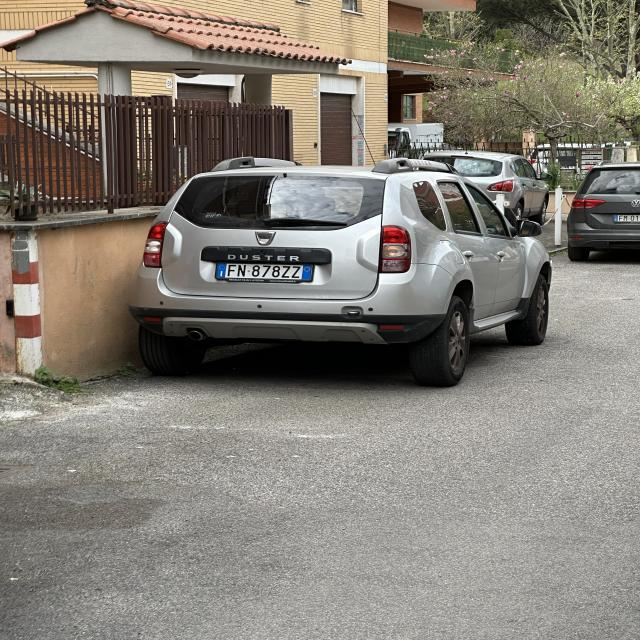number_plate: (216, 263, 313, 282)
